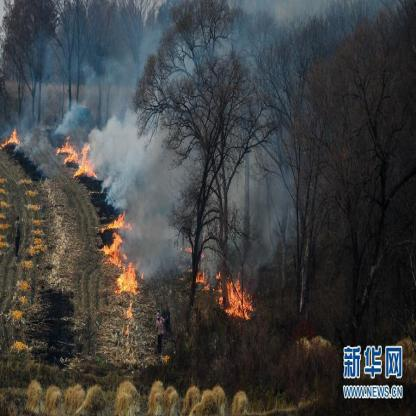fire: (196, 244, 254, 316), (101, 205, 140, 296), (56, 132, 93, 182), (4, 124, 21, 153)
